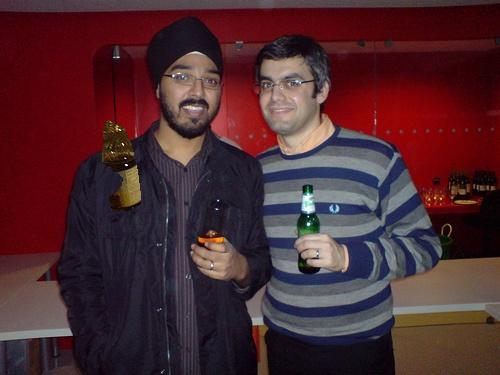tampered: (103, 121, 141, 211)
